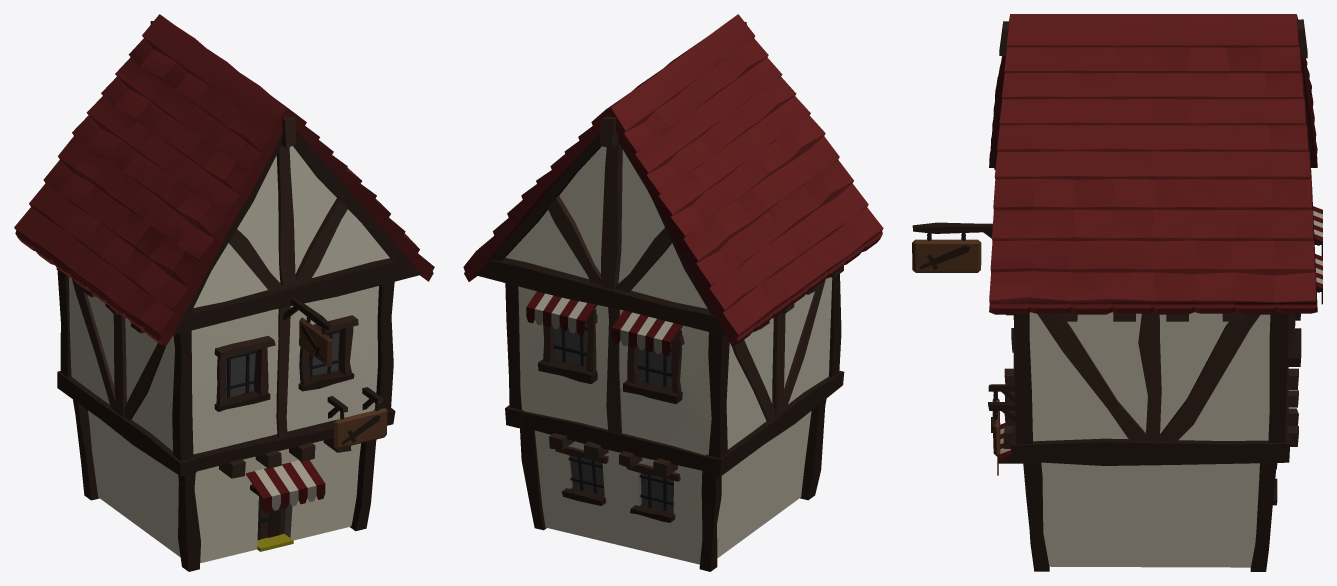
The model's file is Shop04.fbx.
The picture shows the model from 3 angles, left to right: view 1: azimuth 30°, elevation 25°; view 2: azimuth 150°, elevation 25°; view 3: azimuth 270°, elevation 25°; orthographic projection. The views are drawn at different scales.
Parts seen in each view (by area): view 1: BuildingShop01; view 2: BuildingShop01; view 3: BuildingShop01.
Part boxes in pixels (x1,y1,x2,y2): BuildingShop01: (14, 14, 434, 571); BuildingShop01: (463, 14, 883, 571); BuildingShop01: (912, 14, 1322, 571).
Size of the model in its own units: 2.56 by 3.93 by 2.88.
